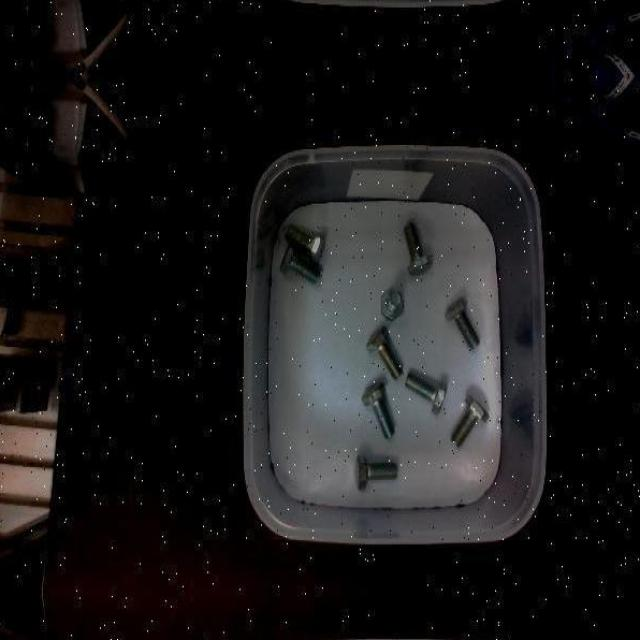screw: (450, 395, 490, 448), (365, 326, 402, 379), (361, 381, 394, 439), (445, 296, 480, 350), (404, 371, 446, 413), (280, 242, 320, 284), (284, 223, 324, 264), (354, 453, 398, 489), (404, 222, 433, 276), (380, 288, 403, 320)
